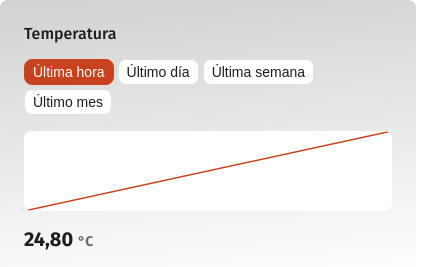
Test case: ChartWidgetComponent › equivalente por teclado del tooltip (WCAG 2.1 AA 2.1.1 / 1.4.13) › al enfocar el gráfico (Tab), muestra el tooltip en la primera posición
The image size is (433, 267).
Focus the picture named "Temperatura" at [208, 171], box [24, 131, 392, 211]
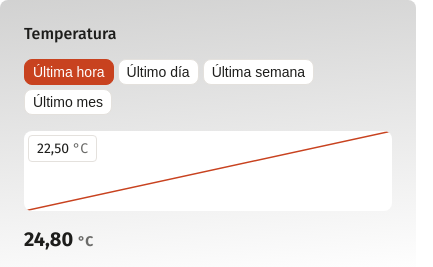
Now the element with class "chart-plot__tooltip" reads "22,50 °C", box [28, 135, 97, 162]
